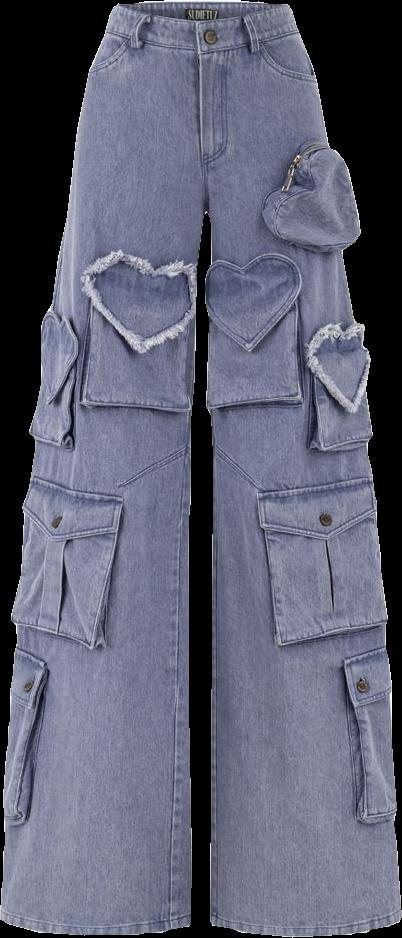Hemline: (209, 911, 401, 937), (0, 912, 193, 937)
Pantleg: (0, 2, 206, 935), (196, 0, 401, 935)
Waistline: (100, 27, 301, 60), (112, 3, 290, 27)
